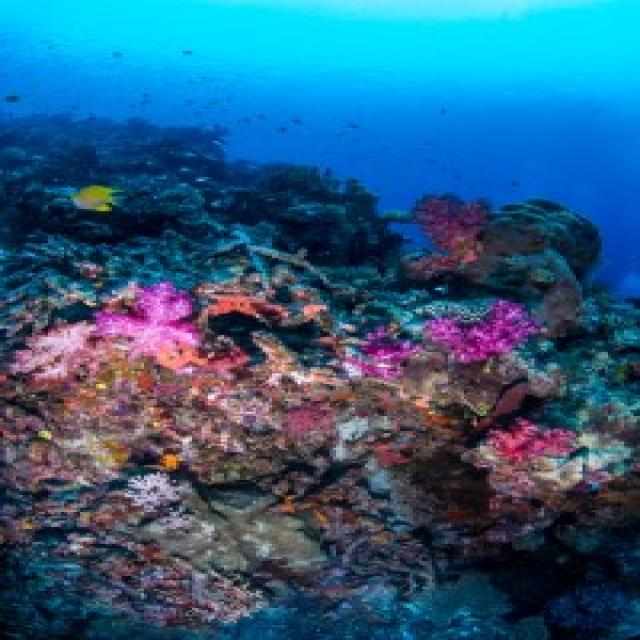Healthy: (4, 338, 452, 511), (4, 530, 247, 639), (465, 419, 635, 511), (305, 479, 433, 596), (407, 195, 551, 285), (407, 300, 539, 364), (94, 283, 196, 359), (203, 272, 331, 327), (14, 323, 94, 379), (340, 325, 417, 376), (126, 472, 183, 509)
